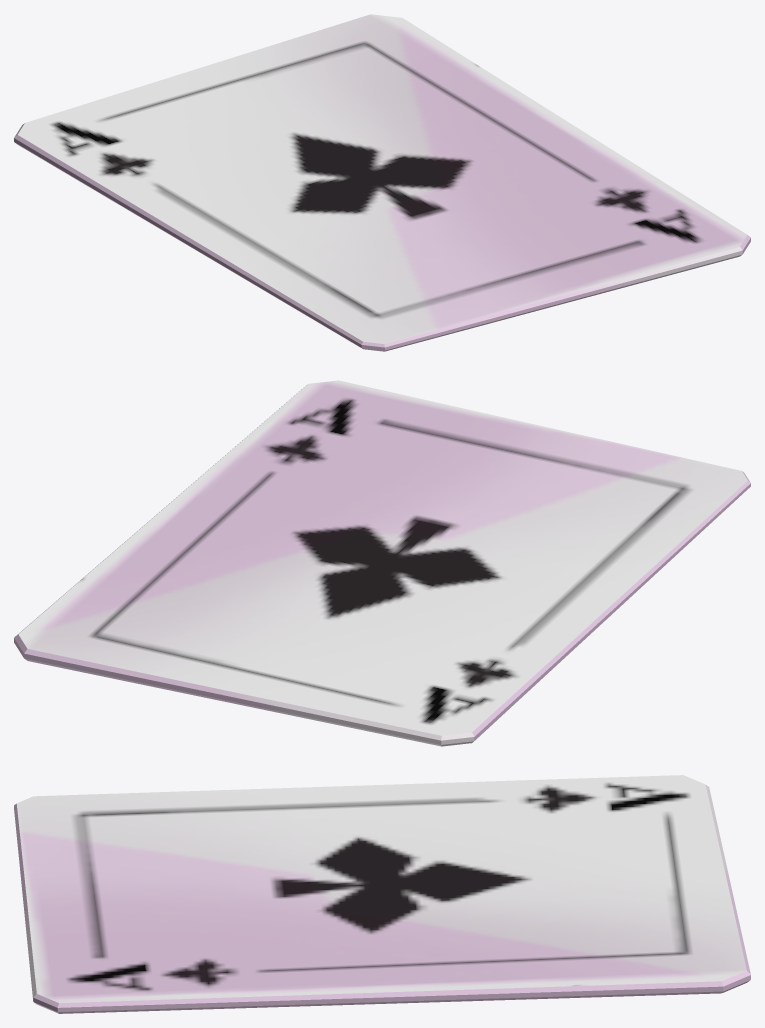
The model's file is Card_Platform.fbx.
3 renders of one model, top to bottom at view 1: azimuth 30°, elevation 25°; view 2: azimuth 150°, elevation 25°; view 3: azimuth 270°, elevation 25°, orthographic. The views are drawn at different scales.
Visible parts, largest first — view 1: Card; view 2: Card; view 3: Card.
Part boxes in pixels (x1,y1,x2,y2): Card: (14,14,750,351); Card: (14,380,750,746); Card: (14,775,750,1013).
Size of the model in its own units: 428 by 14.27 by 566.
